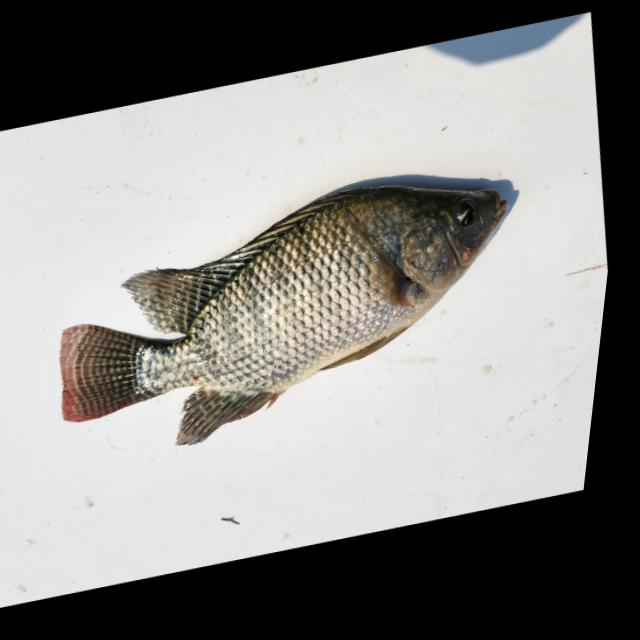Tilapia: (28, 155, 545, 471)
